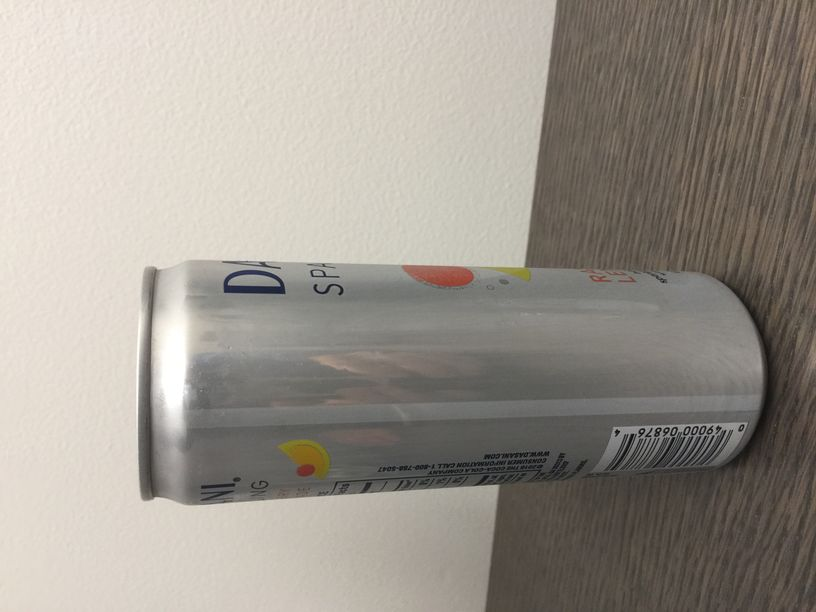lemonade: (355, 264, 637, 319), (267, 435, 337, 481)
